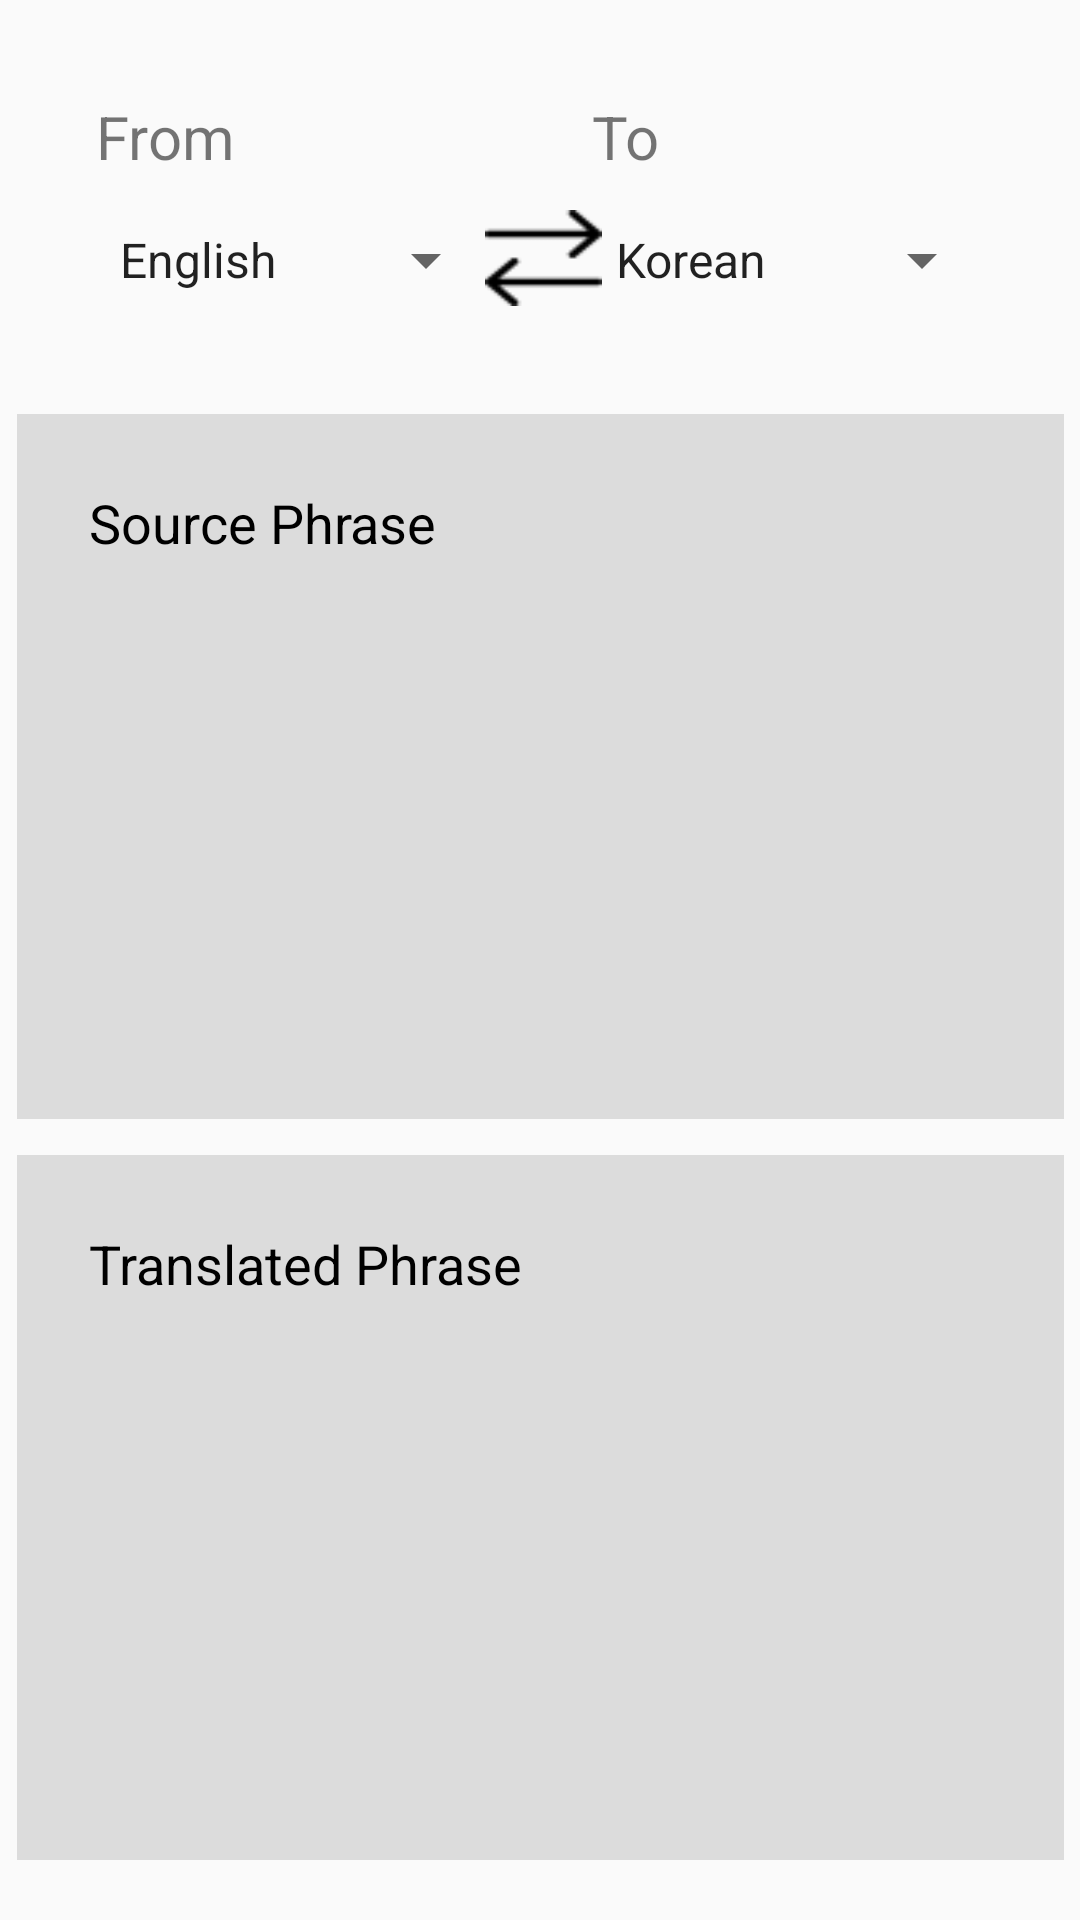

Named icons in this screenshot (1080x1920) and their centers, (x=x, y=y):
arrows: (x=543, y=258)
